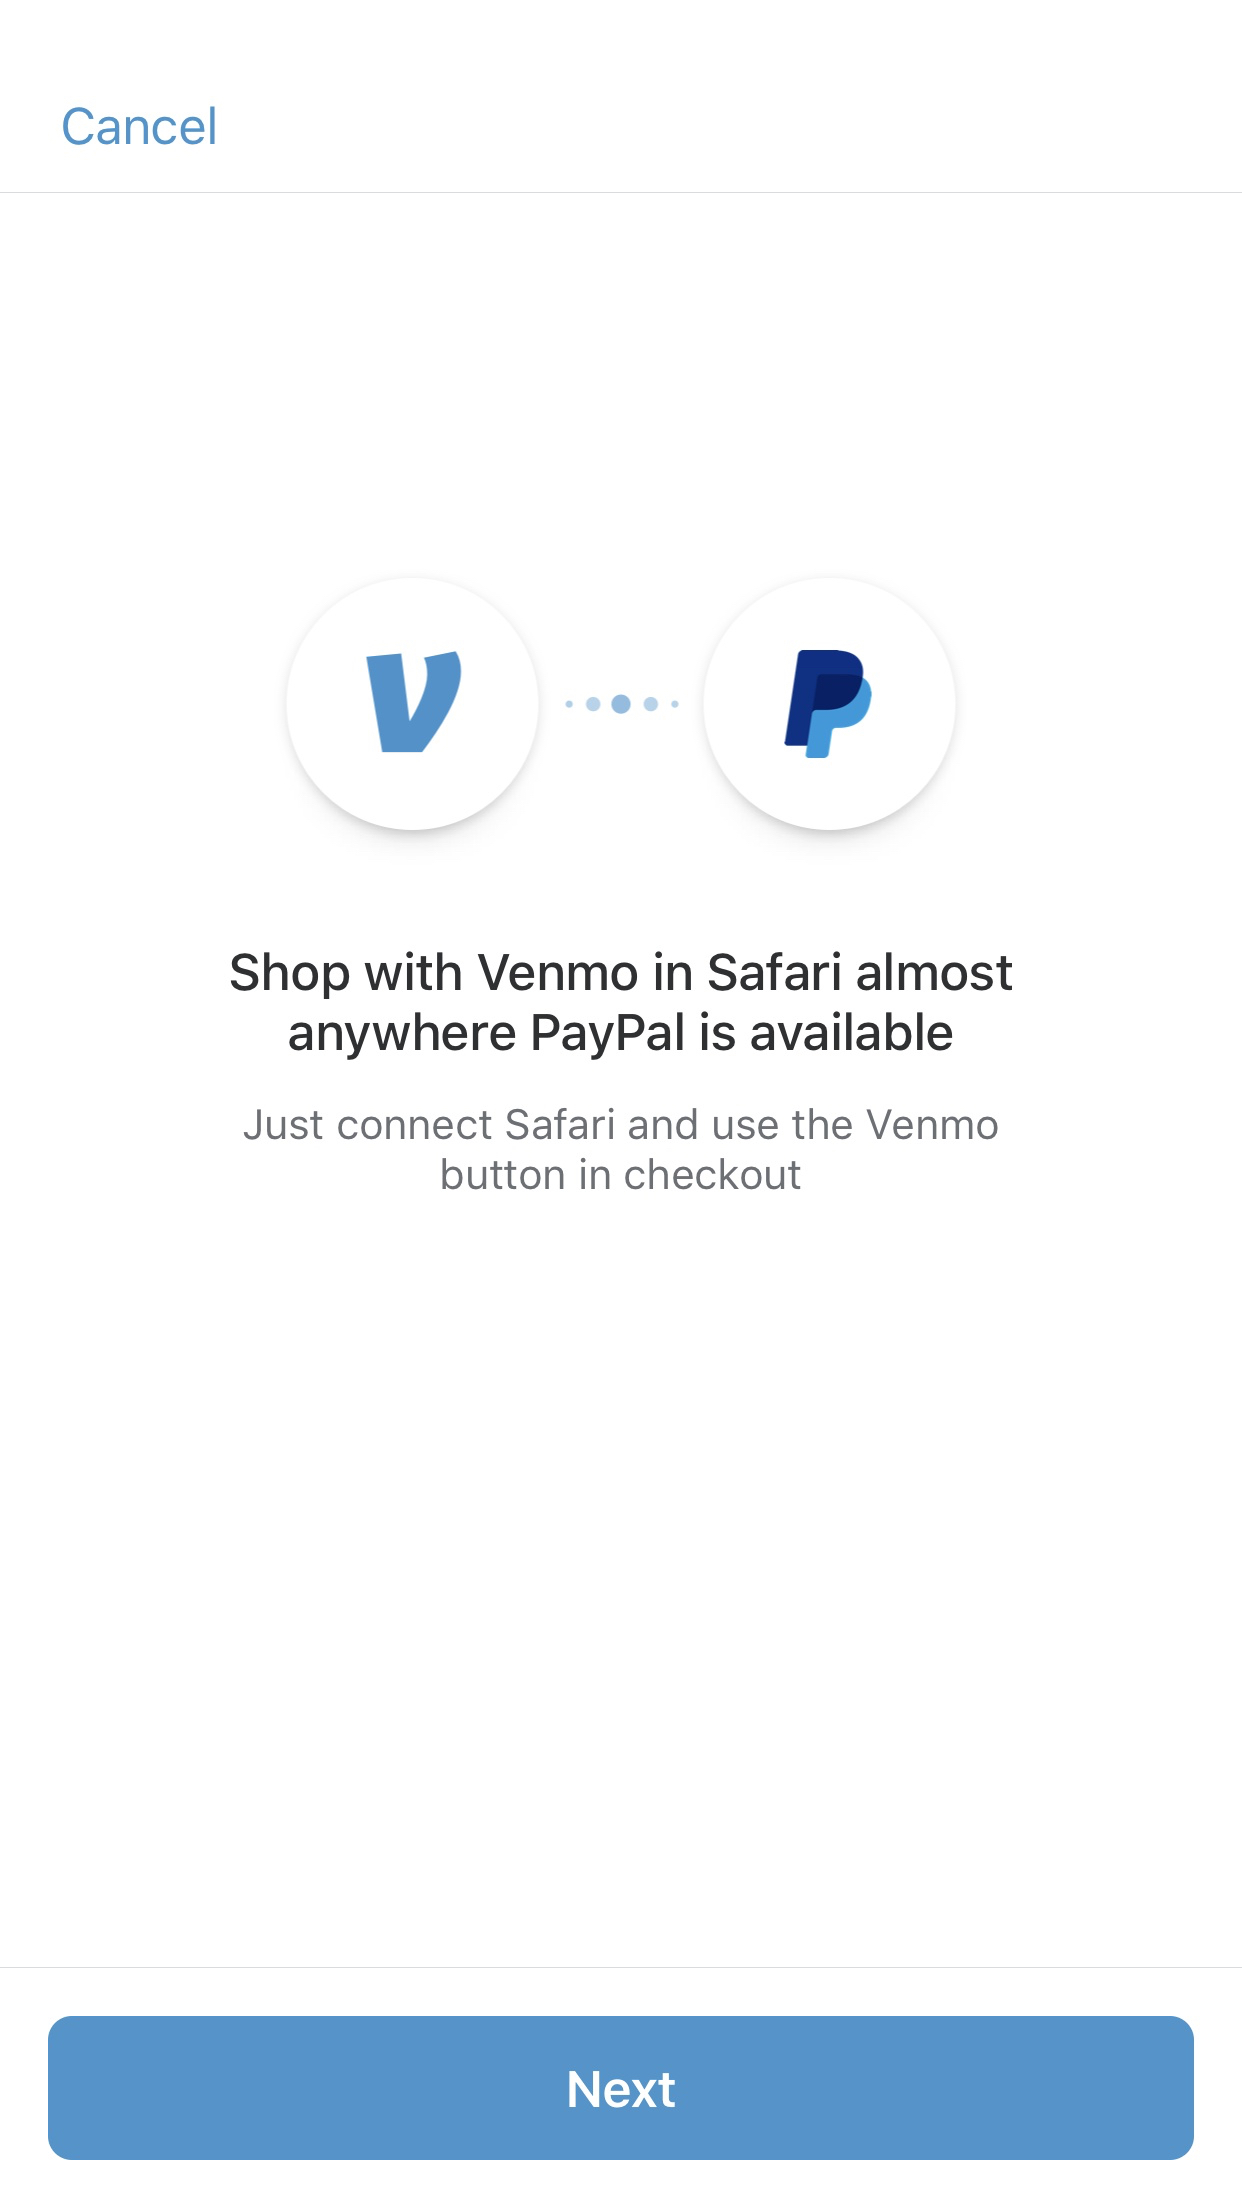Image: (287, 576, 958, 834)
Text: (231, 949, 1013, 1062), (244, 1109, 999, 1190), (64, 108, 217, 147)
TextButton: (49, 2015, 1195, 2161)
